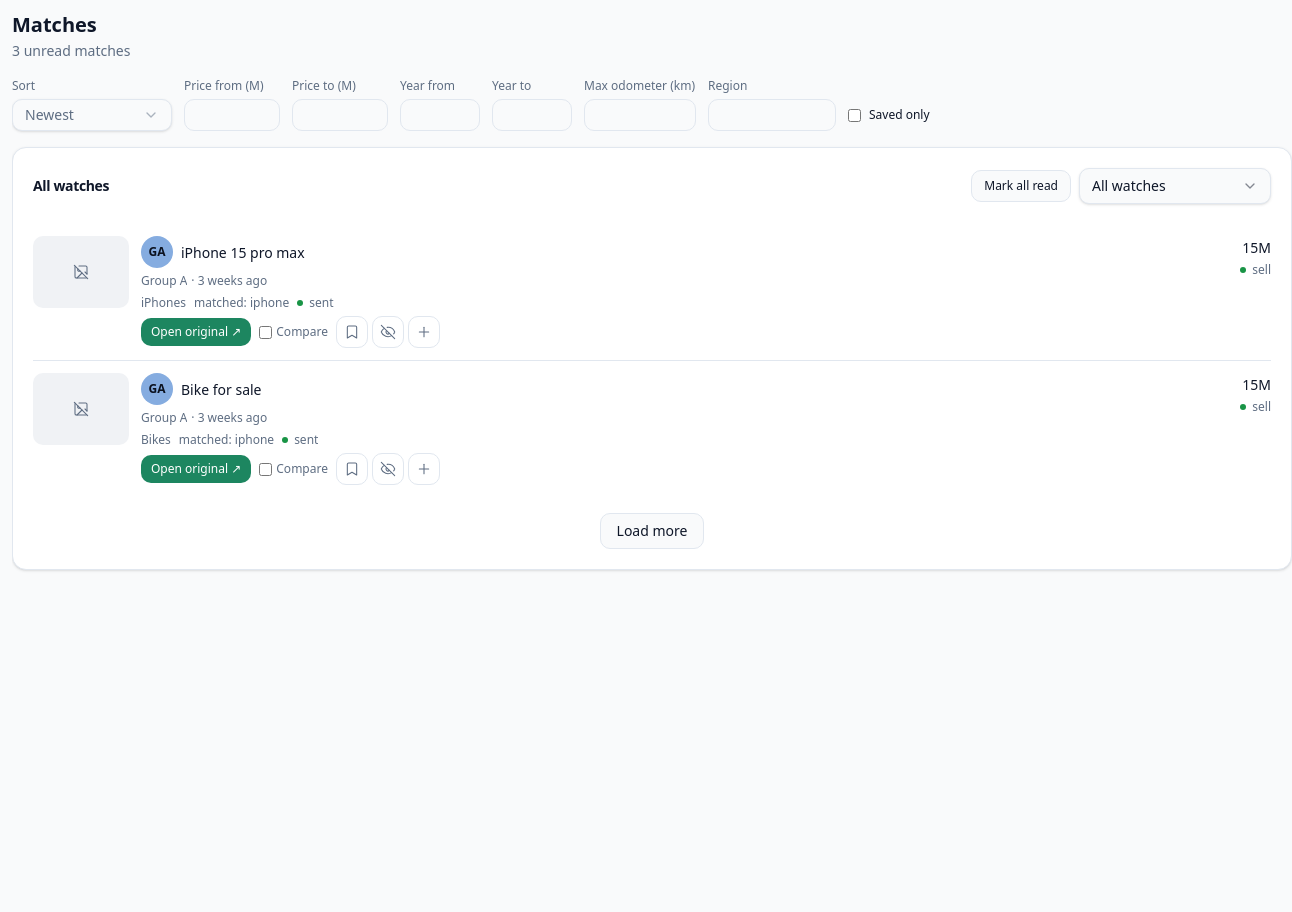
Matches page › 'Load more' appends the next cursor page without refetching page 1
The width and height of the screenshot is (1292, 912).
Expected: the link "iPhone 15 pro max" is shown, 181,242 -> 305,262
Click the button "Load more" at [652, 531], box 600,513 -> 704,549
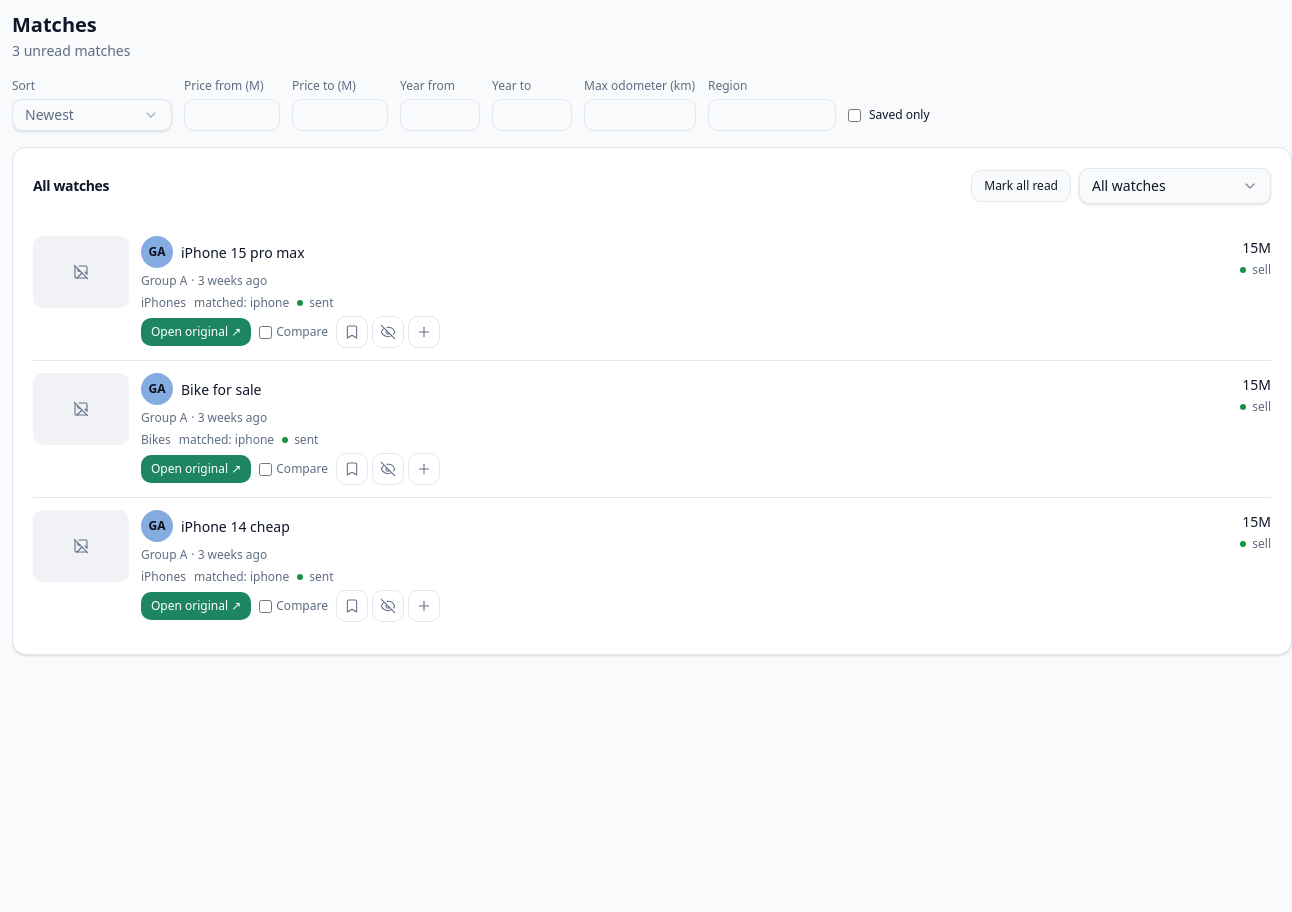
Expected: the link "iPhone 15 pro max" is shown, 181,242 -> 305,262
Expected: the link "iPhone 14 cheap" is shown, 181,516 -> 290,536
Expected: the button "Load more" is gone
